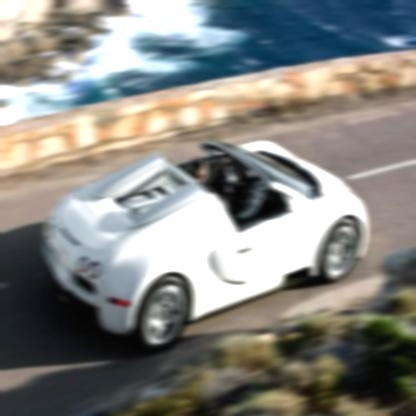Vehicle: (43, 138, 367, 352)
